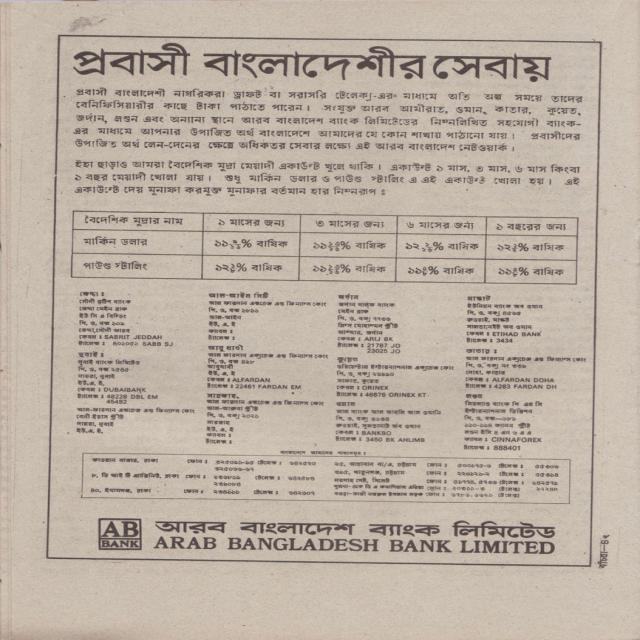advertisement: (48, 36, 600, 564)
page number: (598, 530, 616, 545)
text: (596, 549, 608, 569)
